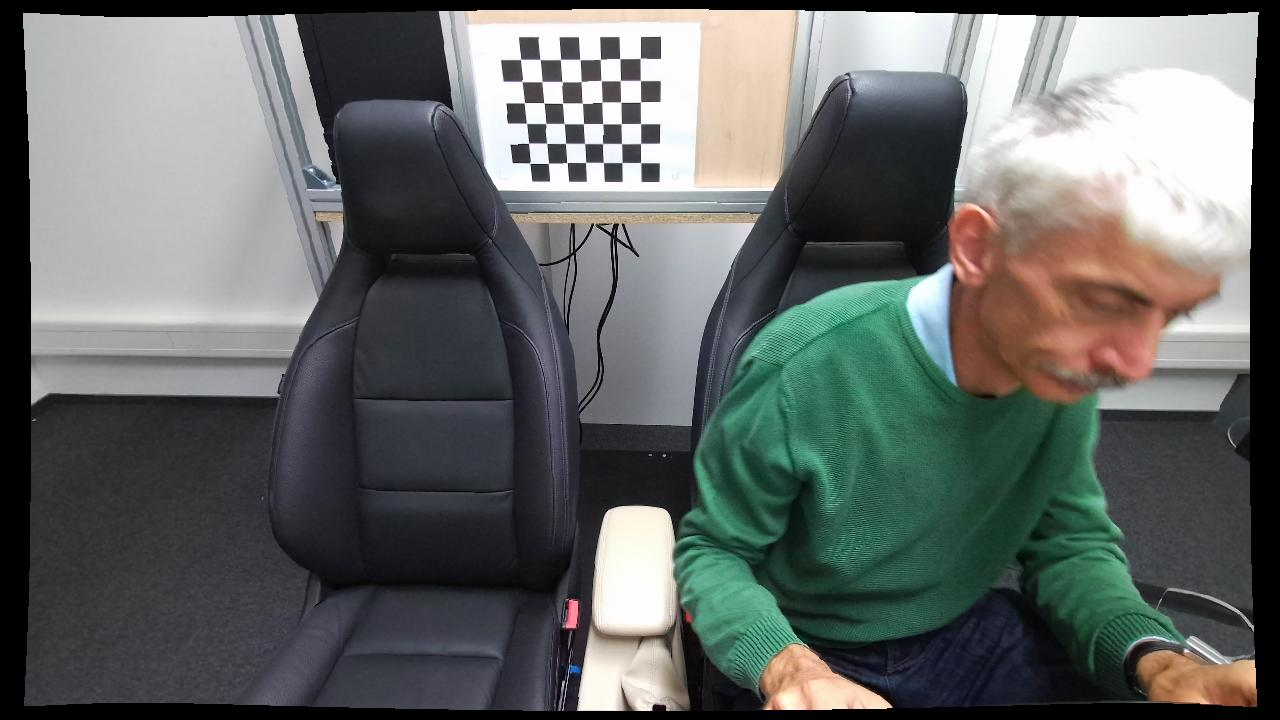Distracted: (677, 69, 1258, 709)
